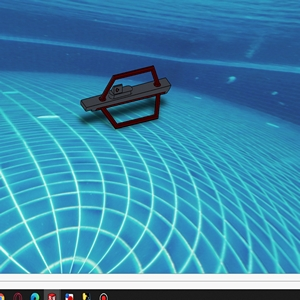submarine: (84, 64, 171, 131)
